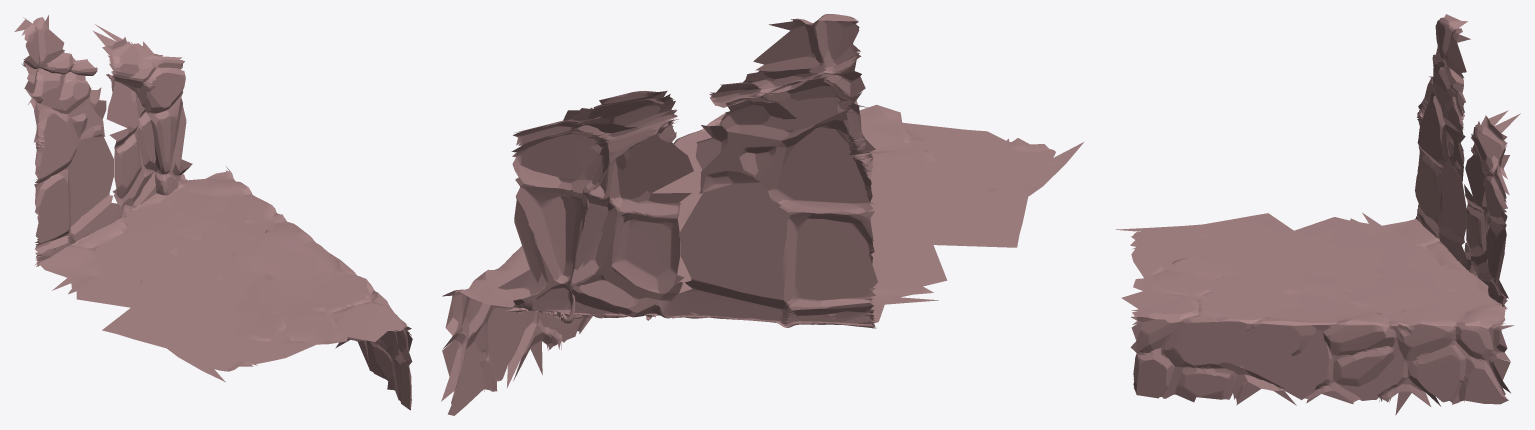
Rendered from cliff_area_2.fbx_Cliff_Area_2_016LODs.fbx.
3 views of the same model, side by side, from view 1: azimuth 30°, elevation 25°; view 2: azimuth 150°, elevation 25°; view 3: azimuth 270°, elevation 25° (orthographic). The views are drawn at different scales.
Visible parts, largest first — view 1: Cliff Area 2.016_LOD0; view 2: Cliff Area 2.016_LOD0; view 3: Cliff Area 2.016_LOD0.
Boxes of the visible parts, x1=… form: Cliff Area 2.016_LOD0: x1=14, y1=15, x2=412, y2=410; Cliff Area 2.016_LOD0: x1=441, y1=14, x2=1084, y2=415; Cliff Area 2.016_LOD0: x1=1116, y1=14, x2=1520, y2=415.
Size of what is drawn, in the model's own units: 4663 by 5548 by 6942.
